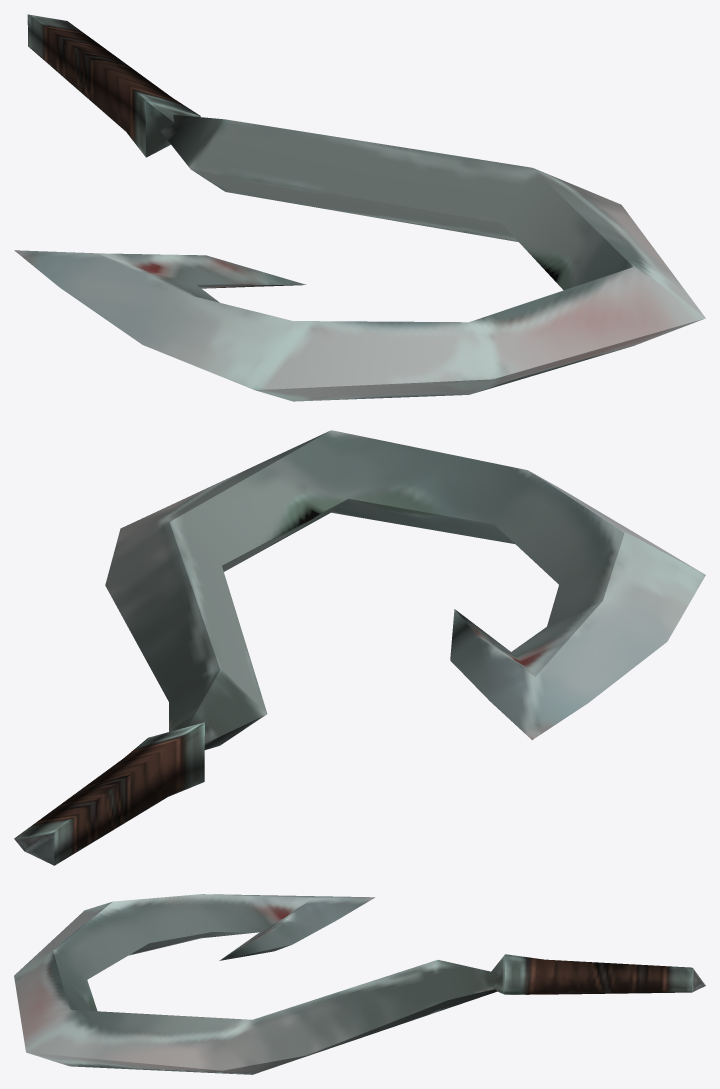
File: 1010@GouZi.FBX
The picture shows the model from 3 angles, top to bottom: view 1: azimuth 30°, elevation 25°; view 2: azimuth 150°, elevation 25°; view 3: azimuth 270°, elevation 25°; orthographic projection. The views are drawn at different scales.
Visible parts, largest first — view 1: body_lod0; view 2: body_lod0; view 3: body_lod0.
Boxes of the visible parts, <box> form: body_lod0: <box>14,14,705,401</box>; body_lod0: <box>14,430,705,865</box>; body_lod0: <box>14,894,705,1074</box>.
Size of the model in its own units: 1.17 by 0.1795 by 1.94.
